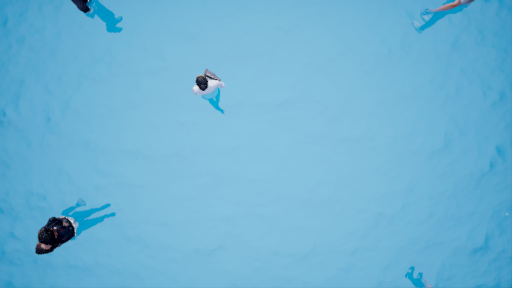person: (28, 198, 123, 258), (189, 70, 235, 115)
